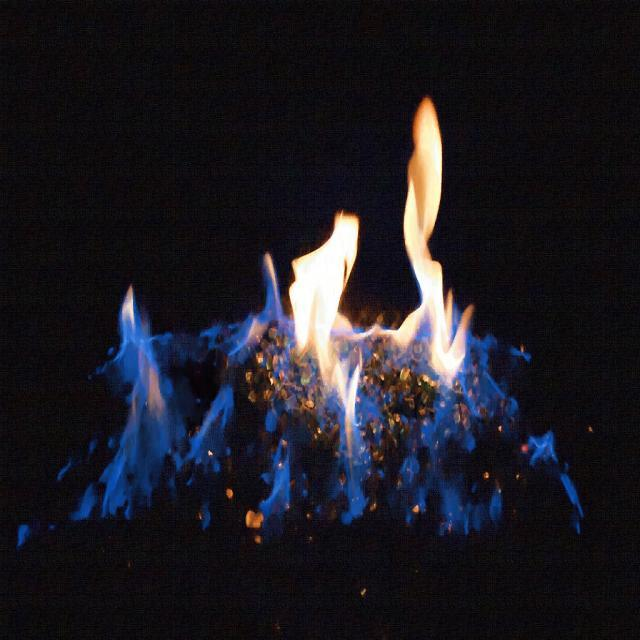Fire: (113, 295, 172, 455), (412, 103, 454, 298), (294, 234, 352, 375)
